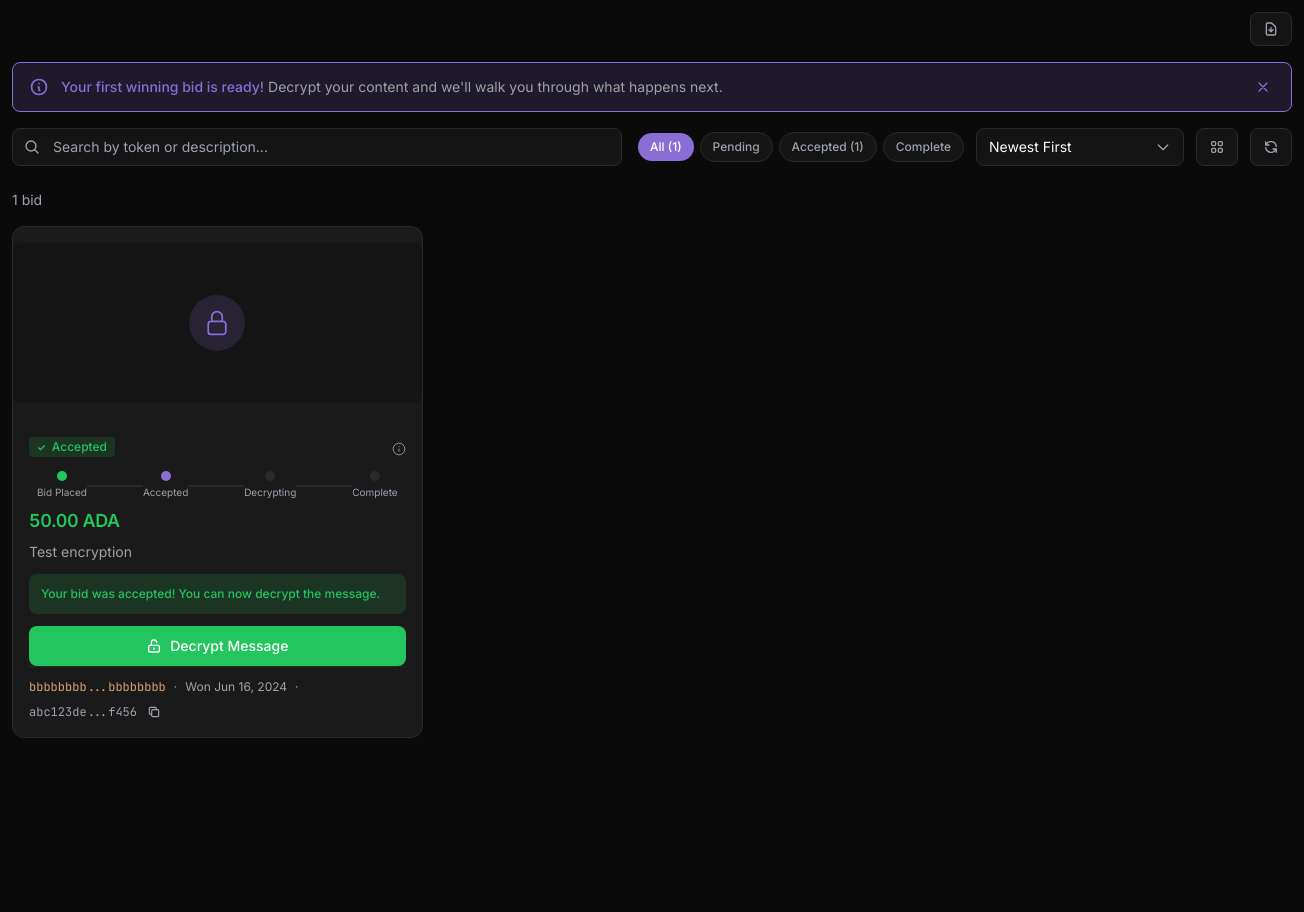
Scenario: MyPurchasesTab — first-decrypt tutorial banner › hides the banner after the dismiss button is clicked
Expected: the text "Your first winning bid is ready!" is shown, [61,78,264,95]
Click the button named "dismiss": (1263, 87) [1251,75,1275,99]
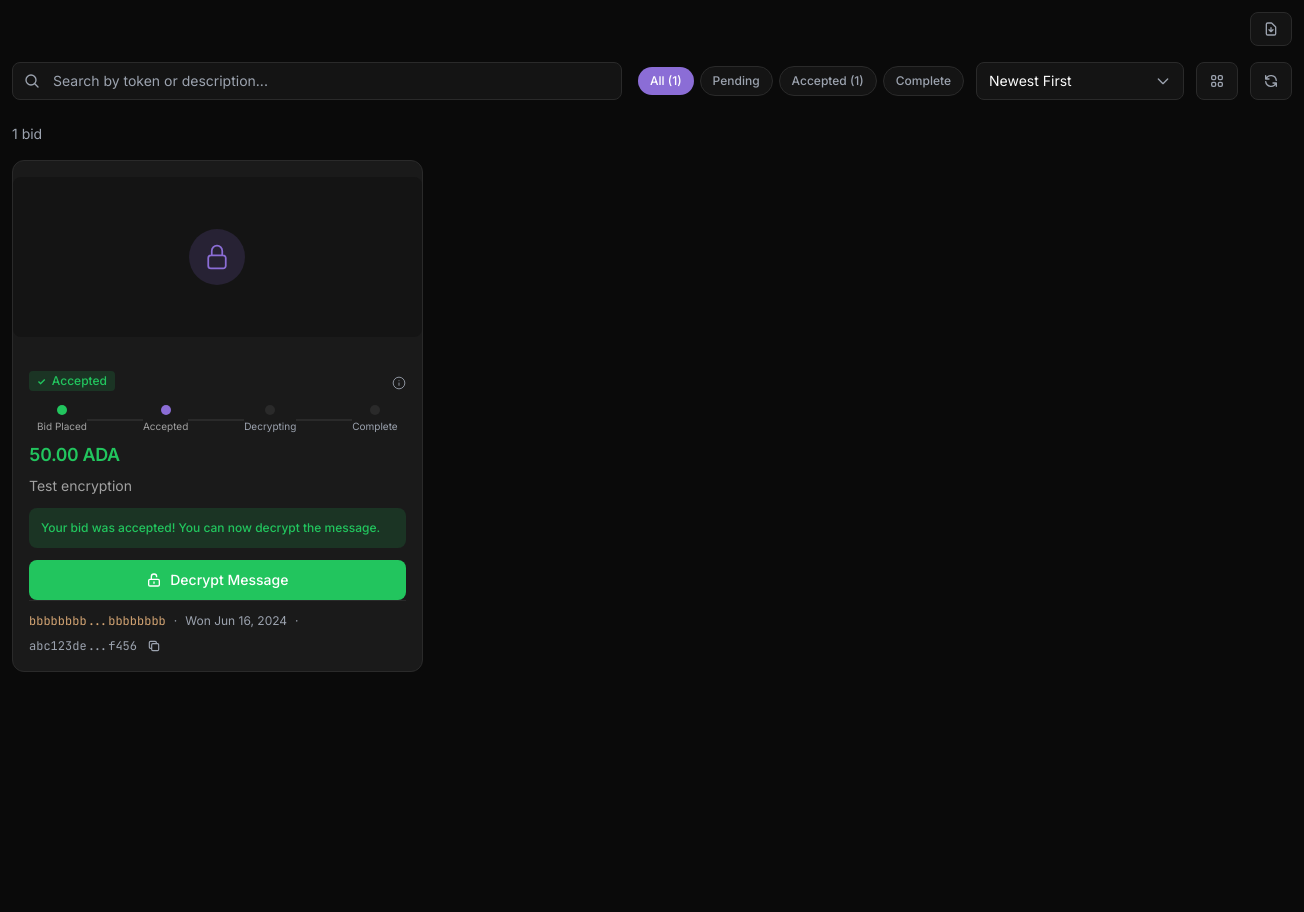
Expected: the text "Your first winning bid is ready" is gone
